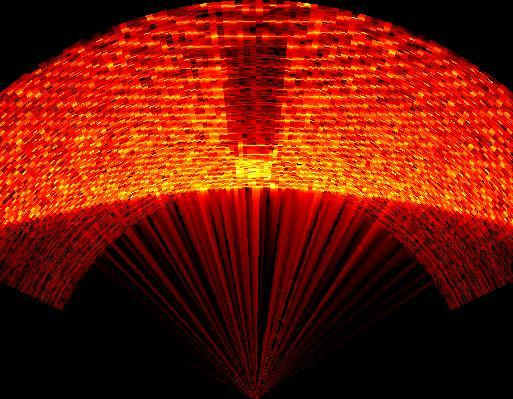box_crate: (220, 40, 289, 156)
